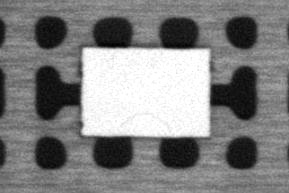DIE_CRACK: (119, 110, 169, 130)
